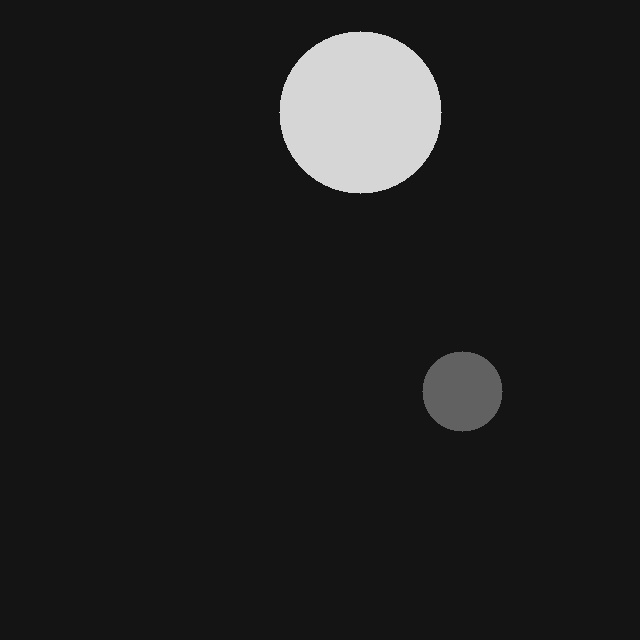circle: (279, 31, 441, 193), (422, 351, 502, 431)
